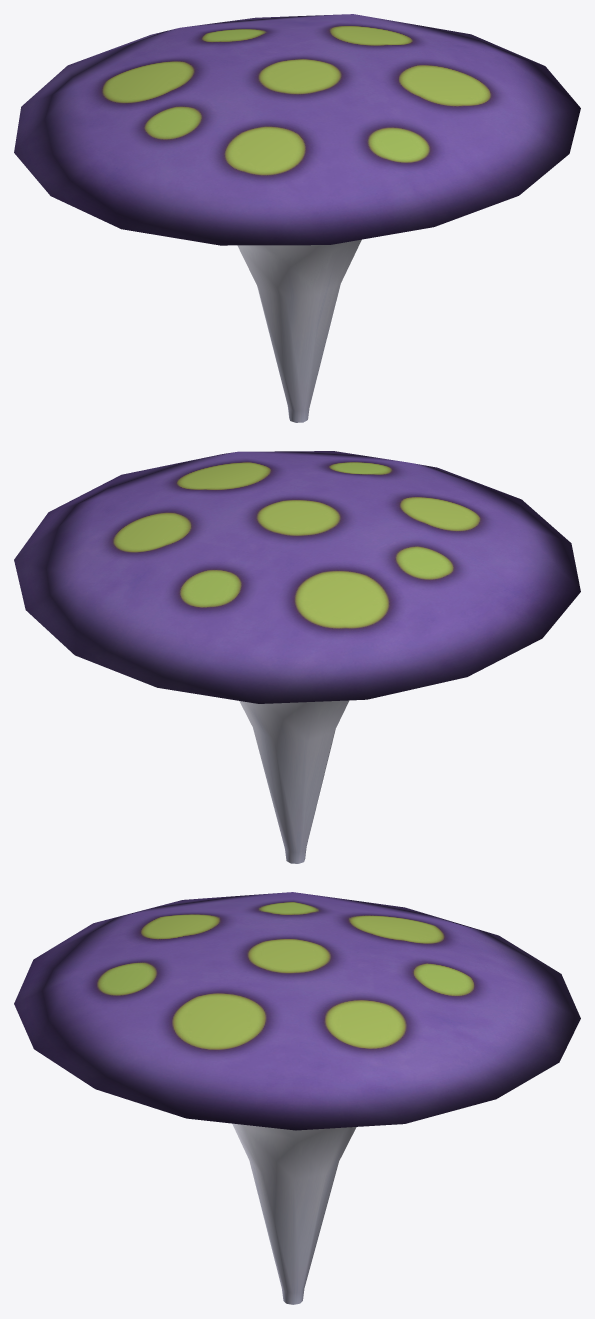
The model's file is Mushroom_Straight1_Purple.fbx.
3 views of the same model, one above another, from view 1: azimuth 30°, elevation 25°; view 2: azimuth 150°, elevation 25°; view 3: azimuth 270°, elevation 25° (orthographic).
Parts seen in each view (by area): view 1: Mesh; view 2: Mesh; view 3: Mesh.
Boxes of the visible parts, x1,y1,x2,y2 form: Mesh: (14, 14, 580, 422); Mesh: (14, 451, 580, 863); Mesh: (14, 892, 580, 1304).
Bounding box in the file's own units: 166 × 111 × 164.
